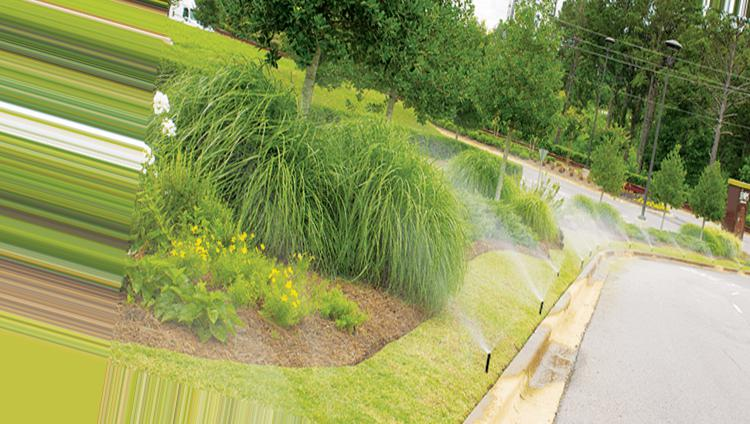patch: (226, 313, 295, 369), (306, 290, 355, 349), (129, 306, 169, 352), (372, 303, 407, 339)
